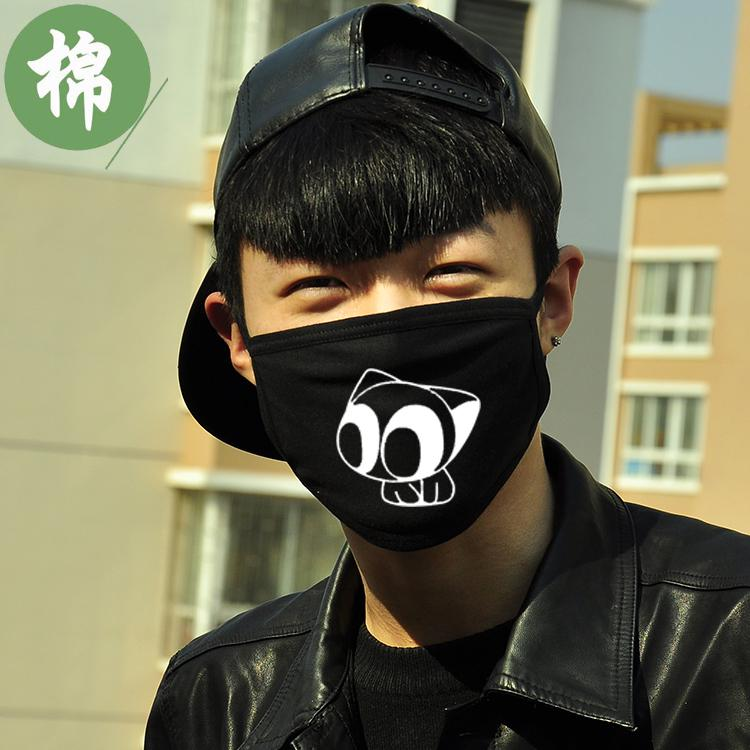OK: (235, 205, 572, 542)
